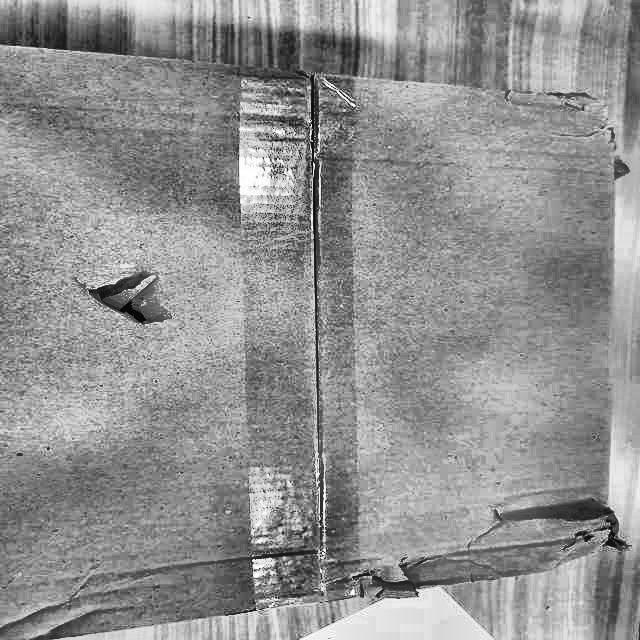box: (0, 25, 626, 639)
hole: (481, 499, 632, 565), (68, 269, 174, 335)
